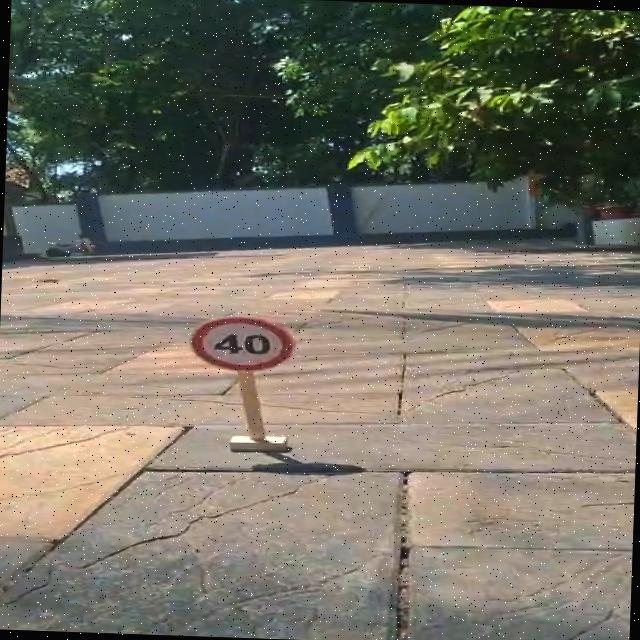Speed40: (187, 312, 299, 376)
